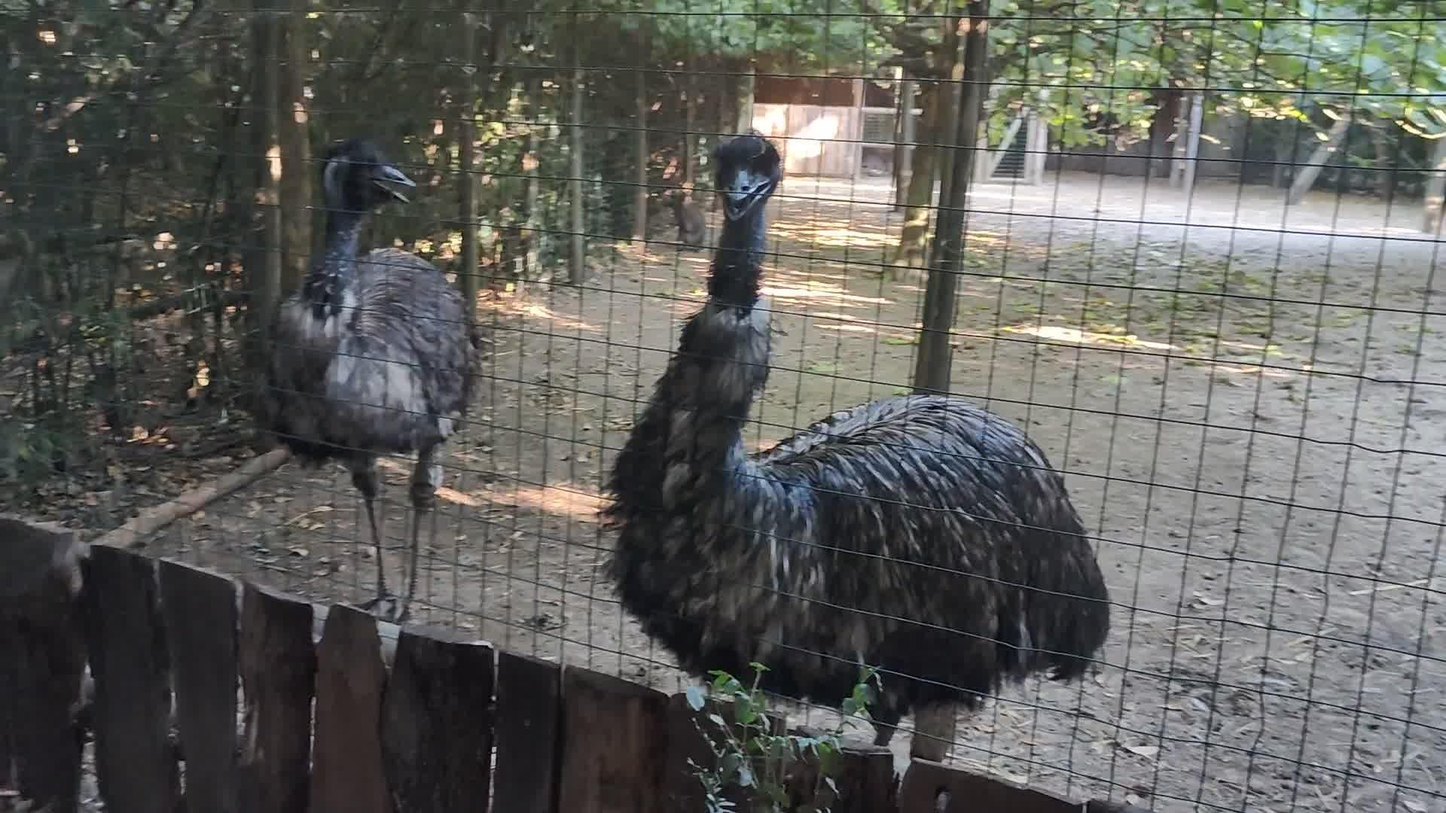apple: (596, 129, 1110, 762), (241, 140, 483, 624)
